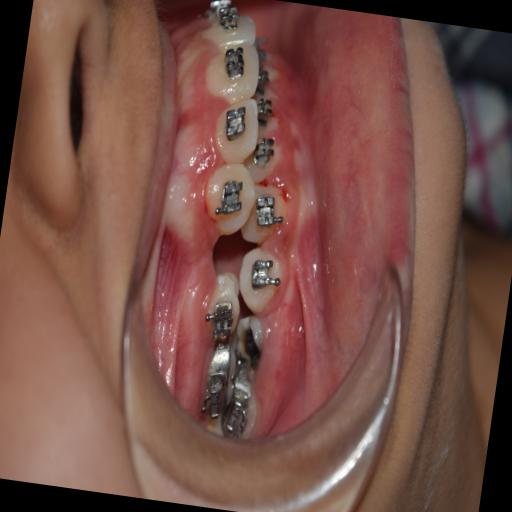correct_brace: (200, 264, 250, 344), (213, 176, 243, 224), (219, 42, 247, 86), (224, 104, 252, 141)
incorrect_brace: (208, 96, 265, 171), (208, 294, 238, 345)
